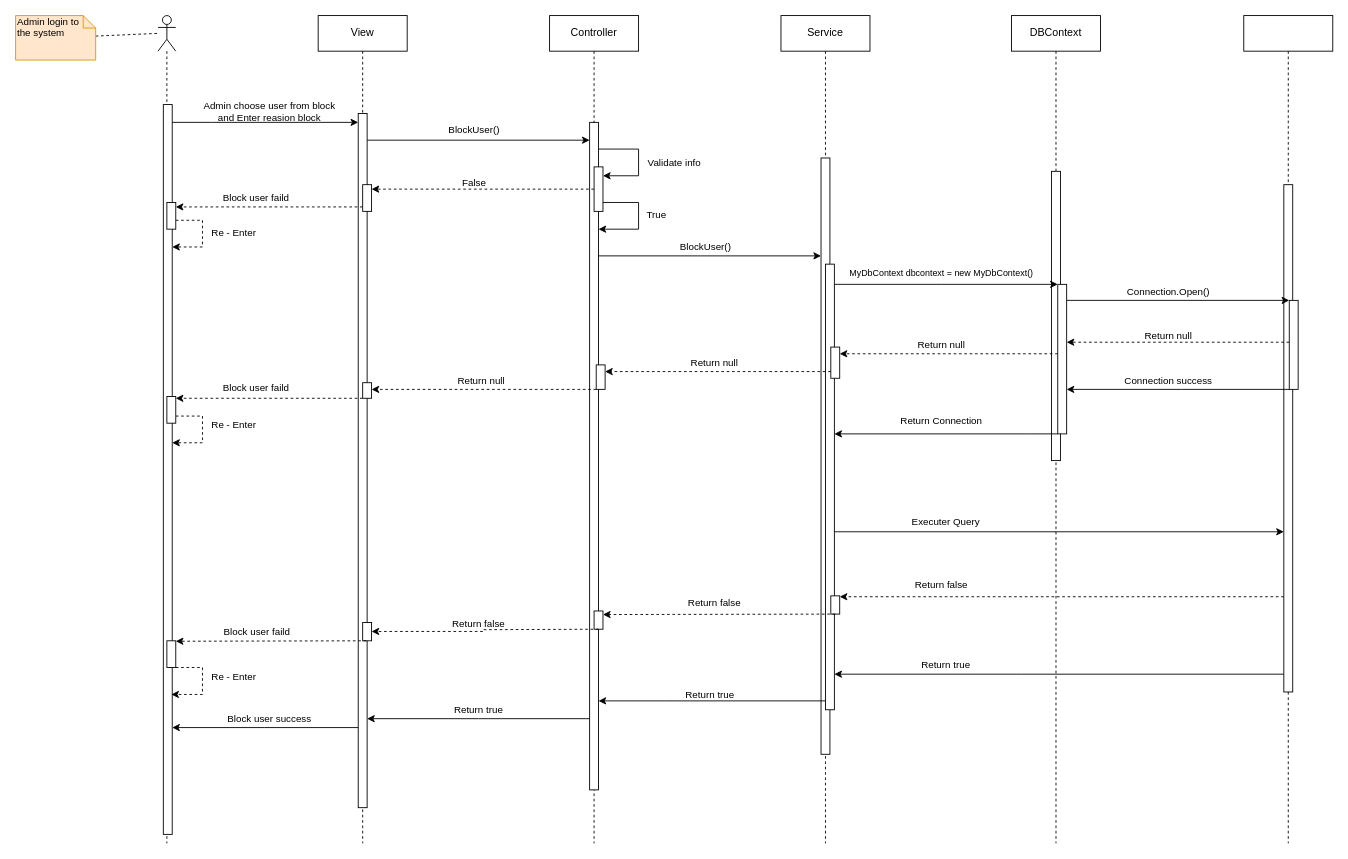
Image size: 1348x859. Some labels were removed from this diagram. The shapes that lost their labels are listed below. From the top down, each one's box as (x1, y1, x2, y2) in pixels, then its label:
(157, 15, 176, 843): Admin
(1243, 15, 1333, 843): Database
